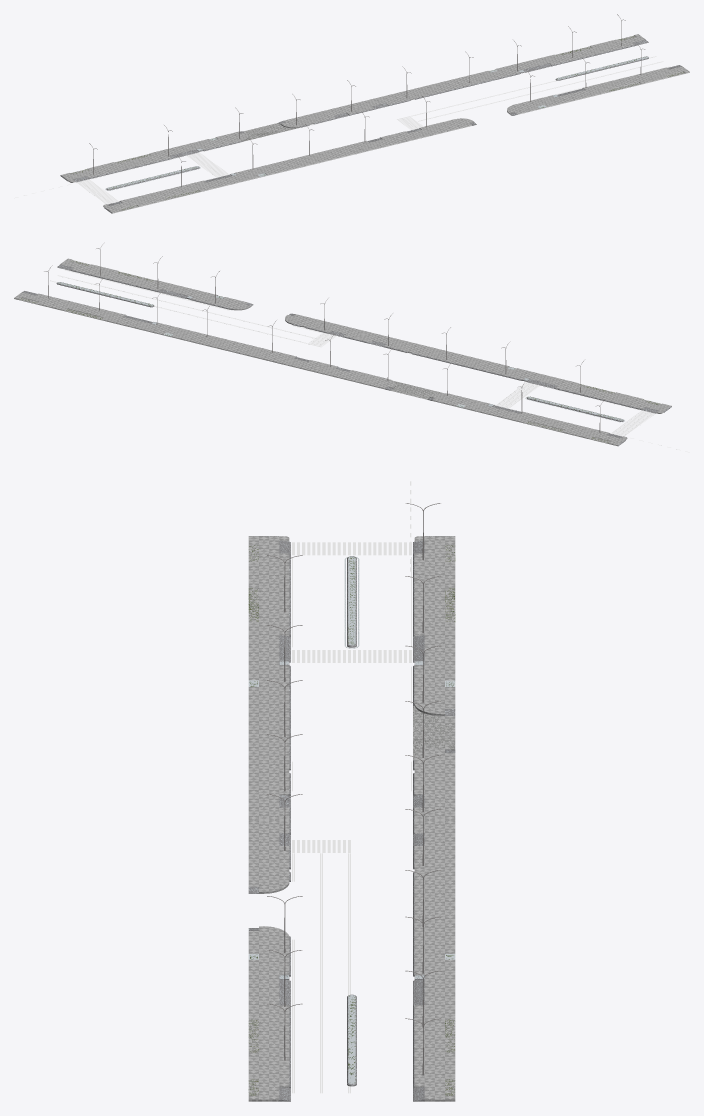
3 renders of one model, top to bottom at view 1: azimuth 30°, elevation 25°; view 2: azimuth 150°, elevation 25°; view 3: azimuth 270°, elevation 25°, orthographic. The views are drawn at different scales.
Parts seen in each view (by area): view 1: group_3.001, group_6, group_3.007, group_6.007, group_3.008, group_6.008, group_3, group_3.014; view 2: group_3.001, group_6, group_3.007, group_6.007, group_6.008, group_3.008, group_6.001, group_3.014, group_3.006; view 3: group_3.001, group_6, group_3.007, group_6.007, group_6.008, group_3.008, group_3.014.
Part boxes in pixels (x1=…): group_3.001: x1=103, y1=134, x2=402, y2=212; group_6: x1=352, y1=34, x2=645, y2=111; group_3.007: x1=61, y1=132, x2=248, y2=182; group_6.007: x1=507, y1=66, x2=689, y2=113; group_3.008: x1=280, y1=104, x2=361, y2=128; group_6.008: x1=394, y1=118, x2=474, y2=141; group_3: x1=103, y1=142, x2=403, y2=213; group_3.014: x1=243, y1=123, x2=300, y2=141; group_3.001: x1=357, y1=331, x2=670, y2=413; group_6: x1=14, y1=292, x2=323, y2=370; group_3.007: x1=429, y1=393, x2=627, y2=445; group_6.007: x1=60, y1=258, x2=250, y2=310; group_6.008: x1=285, y1=314, x2=366, y2=339; group_3.008: x1=314, y1=363, x2=395, y2=388; group_6.001: x1=14, y1=297, x2=313, y2=371; group_3.014: x1=391, y1=381, x2=443, y2=399; group_3.006: x1=432, y1=400, x2=626, y2=445; group_3.001: x1=248, y1=536, x2=289, y2=819; group_6: x1=414, y1=820, x2=455, y2=1101; group_3.007: x1=414, y1=536, x2=455, y2=715; group_6.007: x1=248, y1=926, x2=289, y2=1101; group_6.008: x1=248, y1=820, x2=289, y2=893; group_3.008: x1=414, y1=748, x2=455, y2=819; group_3.014: x1=413, y1=706, x2=455, y2=760.
Bounding box in the file's own units: 56.75 × 2.51 × 7.98.
Materials: 11 (7 with a texture image).
